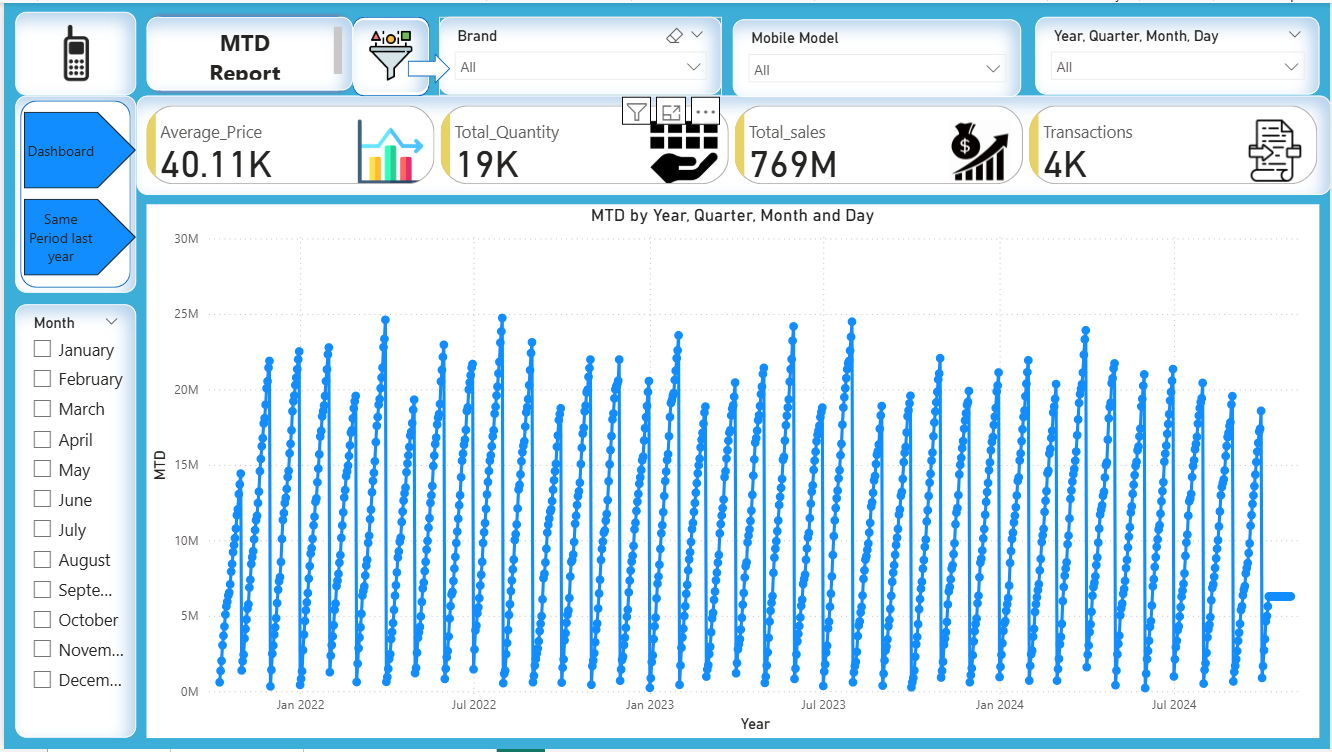

Layout of this report page (visuals, bound fields, positions):
{"tool":"powerbi","page":{"name":"MTD_report","canvas":[1280,720],"ordinal":1},"visuals":[{"type":"shape","box":[11,8.2,116.6,78.2],"z":0},{"type":"image","box":[10.9,8.4,117,80.8],"z":1000},{"type":"shape","box":[11,89.2,116.6,190.7],"z":2000},{"type":"shape","box":[11,290.9,116.6,418.5],"z":3000},{"type":"cardVisual","fields":{"Data":["sales_data.Average_Price","sales_data.Total_Quantity","sales_data.Total_sales","sales_data.Transactions"]},"box":[127.6,89.2,1152.7,96.1],"z":4000},{"type":"slicer","fields":{"Values":["Custom_Calender.date.Variation.Date Hierarchy.Year","Custom_Calender.date.Variation.Date Hierarchy.Quarter","Custom_Calender.date.Variation.Date Hierarchy.Month","Custom_Calender.date.Variation.Date Hierarchy.Day"]},"box":[994.9,13.7,274.4,75.5],"z":5000},{"type":"slicer","fields":{"Values":["sales_data.Mobile Model"]},"box":[703.9,15.1,278.6,75.5],"z":6000},{"type":"slicer","fields":{"Values":["sales_data.Brand"]},"box":[419.9,13.7,273.1,75.5],"z":7000},{"type":"shape","box":[336.2,13.7,74.1,76.8],"z":8000},{"type":"image","box":[336.6,15.7,73.6,71.2],"z":9000},{"type":"shape","box":[389.7,48.3,41,30.2],"z":10000},{"type":"shape","box":[137.2,8.2,199,81],"z":11000},{"type":"textbox","box":[137.5,13.3,199.1,71.2],"z":12000},{"type":"slicer","fields":{"Values":["Custom_Calender.date.Variation.Date Hierarchy.Month"]},"box":[10.9,290.8,117,418.6],"z":14000},{"type":"lineChart","fields":{"Y":["sales_data.MTD"],"Category":["Custom_Calender.date.Variation.Date Hierarchy.Year","Custom_Calender.date.Variation.Date Hierarchy.Quarter","Custom_Calender.date.Variation.Date Hierarchy.Month","Custom_Calender.date.Variation.Date Hierarchy.Day"]},"box":[137.5,194.2,1131.6,515.2],"z":15000},{"type":"pageNavigator","box":[19.3,105,108.6,158],"z":16000}]}

Visuals, with their boxes in screenshot pixels (x1, y1, x2, y2), scaled from the page's 1280x720 canvas onto the 1332x752 screenshot:
shape: 11:9:133:90
image: 11:9:133:93
shape: 11:93:133:292
shape: 11:304:133:741
cardVisual - sales_data.Average_Price x sales_data.Total_Quantity: 133:93:1331:194
slicer - Custom_Calender.date.Variation.Date Hierarchy.Year x Custom_Calender.date.Variation.Date Hierarchy.Quarter: 1035:14:1321:93
slicer - sales_data.Mobile Model: 732:16:1022:95
slicer - sales_data.Brand: 437:14:721:93
shape: 350:14:427:95
image: 350:16:427:91
shape: 406:50:448:82
shape: 143:9:350:93
textbox: 143:14:350:88
slicer - Custom_Calender.date.Variation.Date Hierarchy.Month: 11:304:133:741
lineChart - sales_data.MTD x Custom_Calender.date.Variation.Date Hierarchy.Year: 143:203:1321:741
pageNavigator: 20:110:133:275
